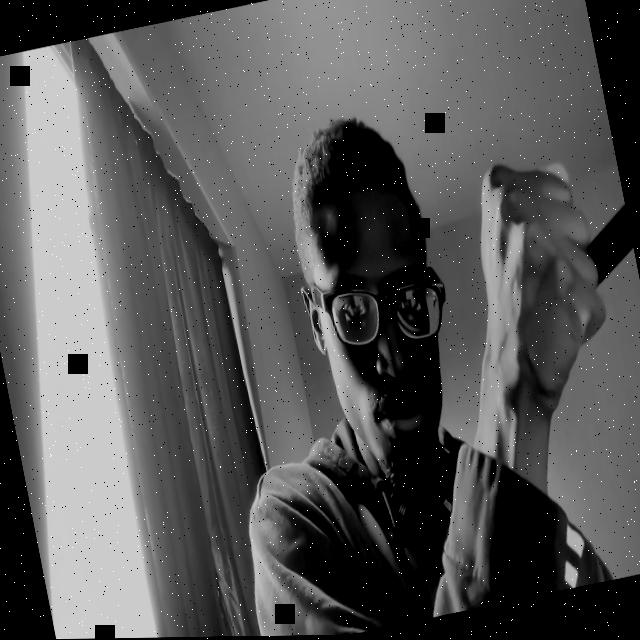Rock: (462, 145, 622, 416)
